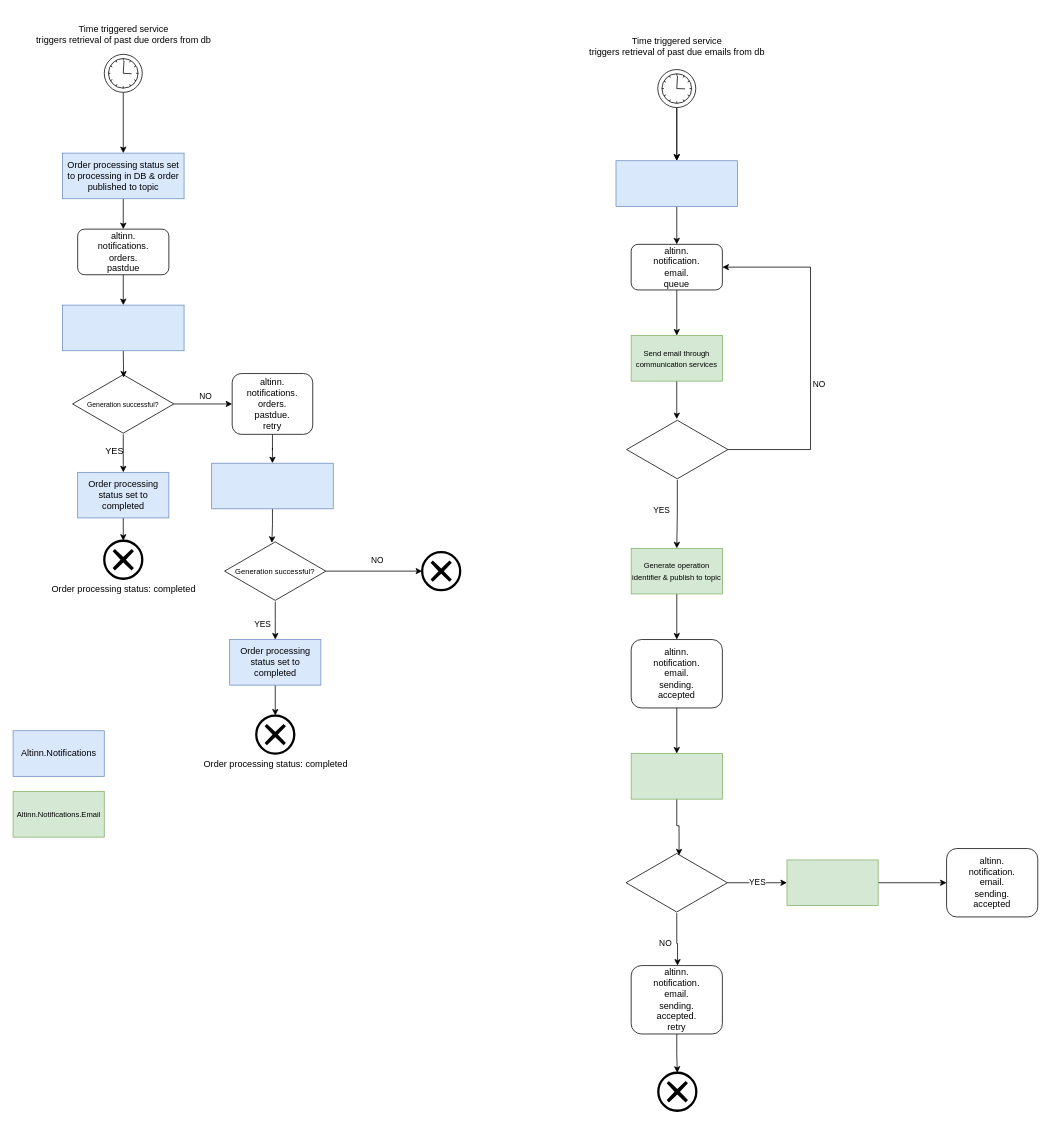
This 1052x1139 diagram has some shape labels left out. Here are the shapes that lost their labels. From the top down, the box of each, then its label:
(615, 160, 738, 206): Sending status set to: sending in DB & email published to topic
(62, 304, 184, 351): Generate an email notification for each recipient and persist in database
(626, 418, 728, 480): Operation accepted?
(211, 462, 333, 509): Generate an email notification for each recipient not yet persisted in database
(421, 551, 460, 590): Order processing status: processing
(630, 753, 722, 799): Get operation update from communication services
(625, 852, 727, 913): operation send result final?
(786, 859, 878, 906): Generate send operation result
(658, 1072, 696, 1111): No further consumer implemented
